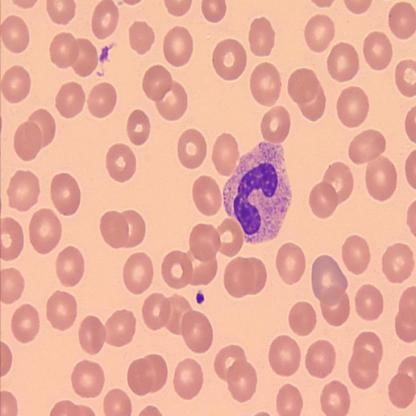Band Neutrophil: (219, 138, 295, 248)
